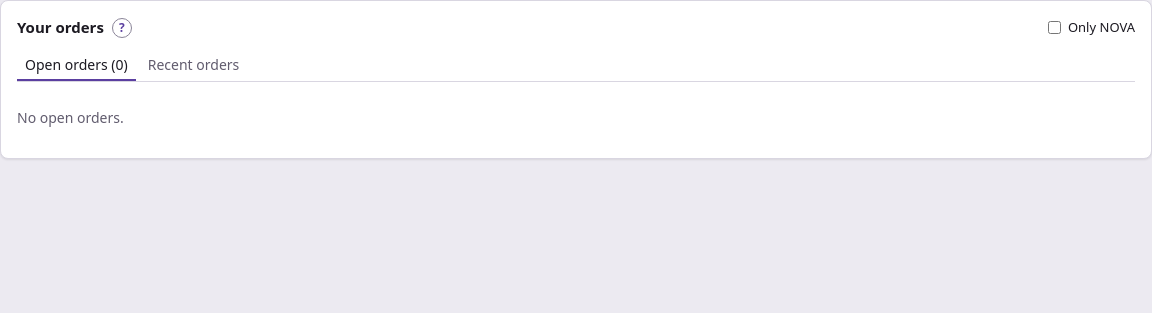
Test case: OwnOrders › shows the most recently ended orders under Recent, in the order sent, with how each ended
This screenshot has width=1152, height=313.
What coordinates should you click on to do the following:
click the tab "Recent orders"
I would click on:
 (194, 66)
Its box is 140,51 -> 247,81.
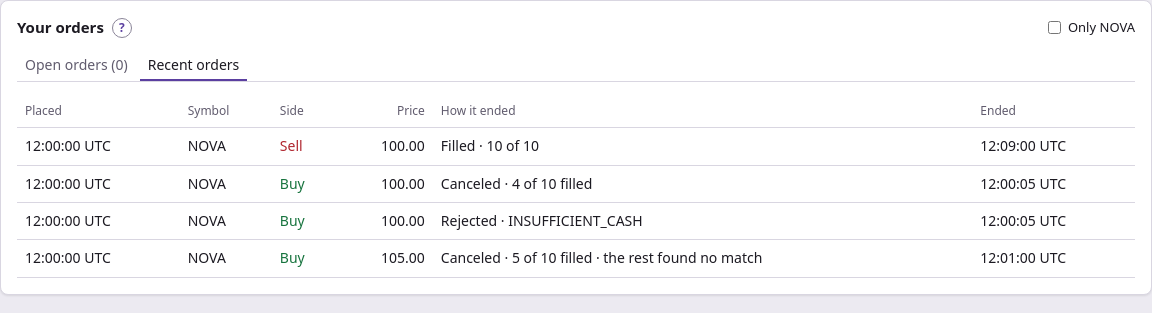
Expected: the row "12:00:00 UTC NOVA Sell 100.00 Filled · 10 of 10 12:09:00 UTC" is shown, 17,128 -> 1135,165
Expected: the cell "105.00" is shown, 337,240 -> 433,277
